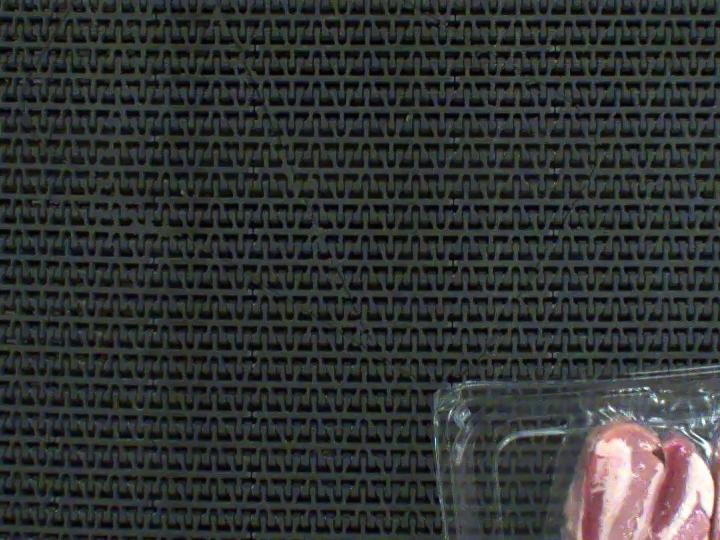unsealed: (501, 348, 720, 540)
